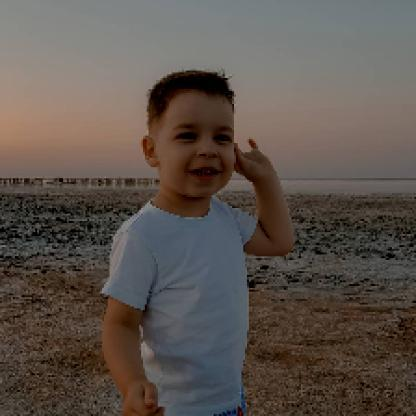child: (100, 72, 297, 416)
